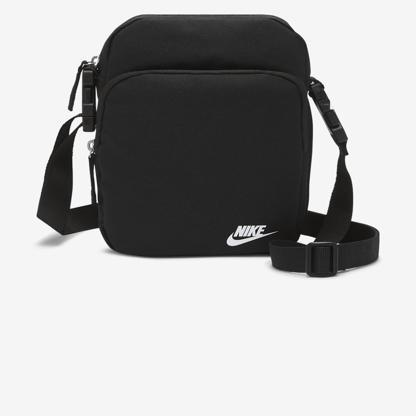not trash: (32, 12, 383, 279)
